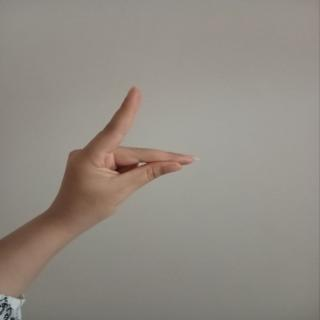TAA: (42, 74, 206, 228)
